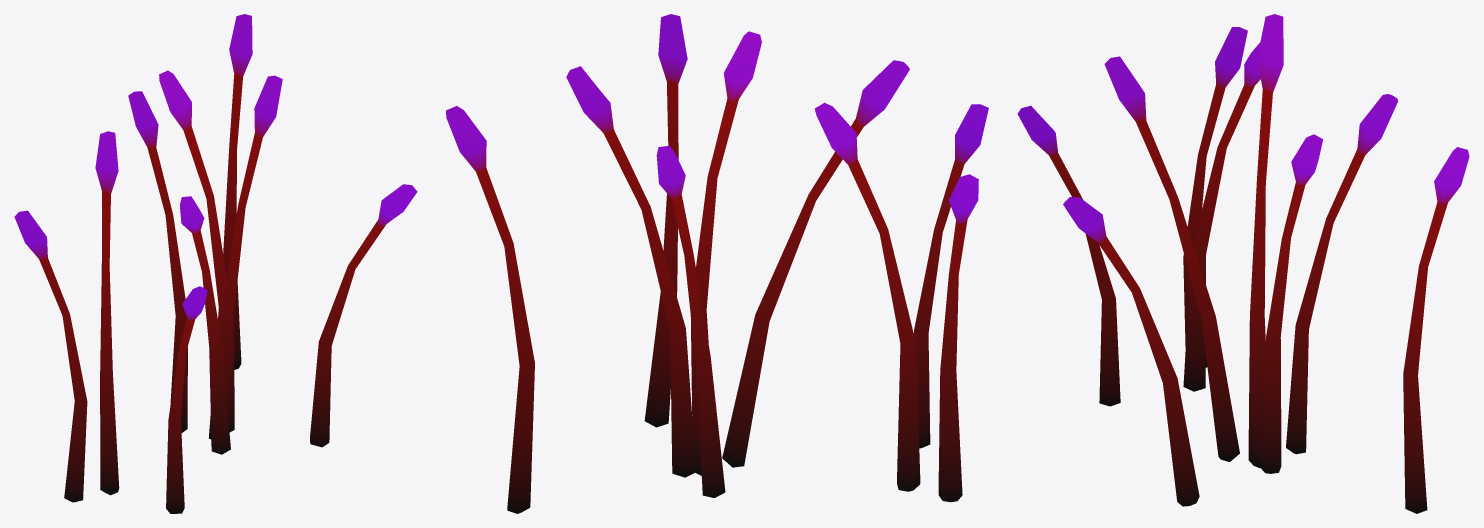
Rendered from SM_Env_Flowers_03.glb.
3 renders of one model, left to right at view 1: azimuth 30°, elevation 25°; view 2: azimuth 150°, elevation 25°; view 3: azimuth 270°, elevation 25°, orthographic. The views are drawn at different scales.
Visible parts, largest first — view 1: SM_Env_Flowers_03_LOD0; view 2: SM_Env_Flowers_03_LOD0; view 3: SM_Env_Flowers_03_LOD0.
Part boxes in pixels (box(x1,y1,x2,y2)): SM_Env_Flowers_03_LOD0: box(14, 14, 417, 513); SM_Env_Flowers_03_LOD0: box(446, 14, 988, 513); SM_Env_Flowers_03_LOD0: box(1017, 14, 1469, 513).
Size of what is drawn, in the model's own units: 1.19 by 1.28 by 1.23.
